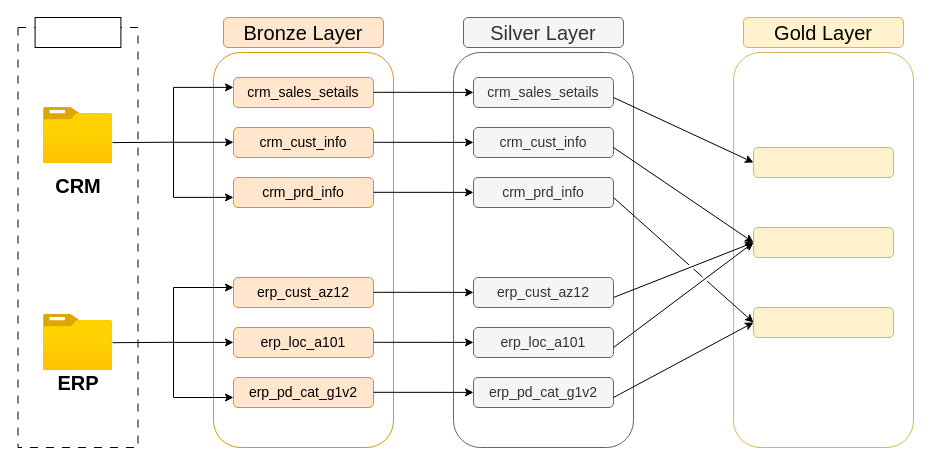
Image size: 931x465. Some labels were removed from this diagram. Each missing label, with the centre of its shape:
"dim_customers" belongs at (823,242).
"dim_products" belongs at (823,322).
"fact_sales" belongs at (823,162).
"Sources" belongs at (77,32).
